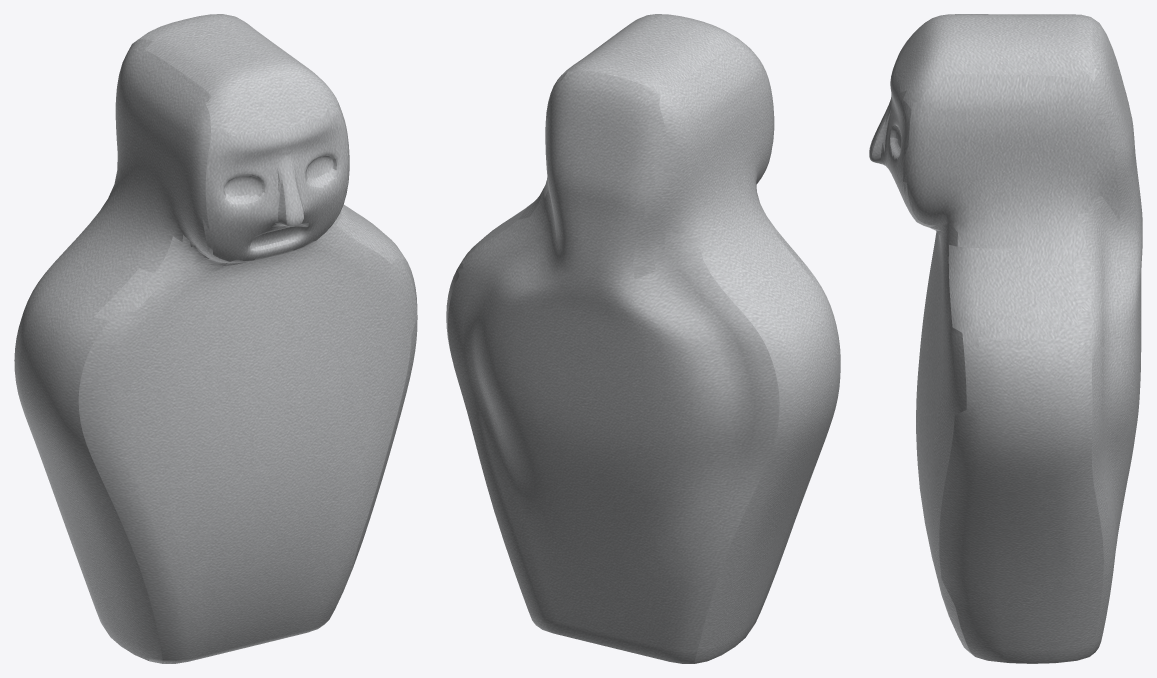
Rendered from simulator_tex.obj.
3 views of the same model, side by side, from view 1: azimuth 30°, elevation 25°; view 2: azimuth 150°, elevation 25°; view 3: azimuth 270°, elevation 25° (orthographic). The views are drawn at different scales.
Size of the model in its own units: 21.83 by 33.45 by 14.
Materials: 1 (1 with a texture image).
